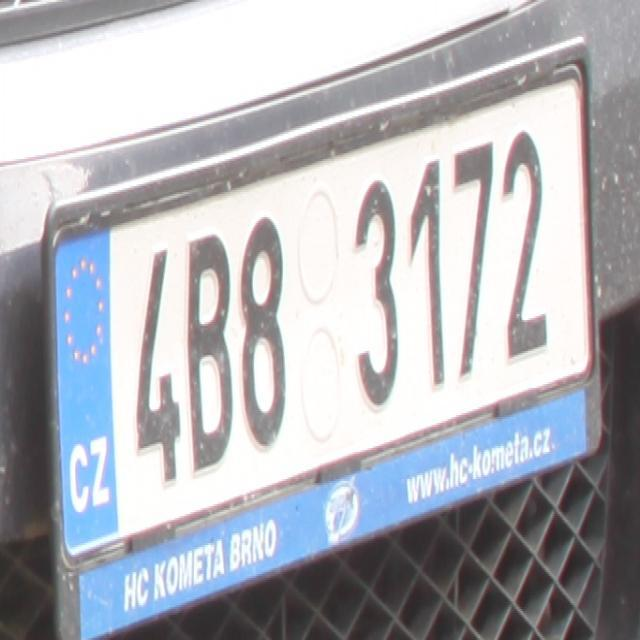1: (408, 157, 451, 394)
2: (502, 128, 548, 361)
3: (355, 178, 399, 410)
4: (130, 248, 183, 479)
7: (450, 144, 494, 380)
8: (240, 214, 286, 441)
B: (186, 235, 234, 480)
